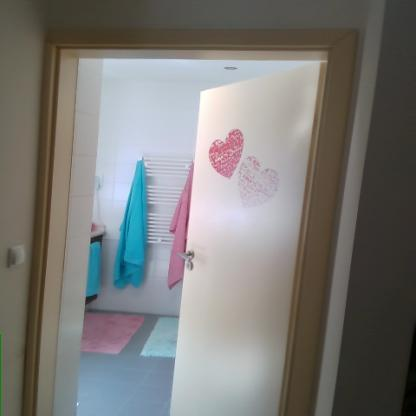semi: (76, 18, 362, 416)
